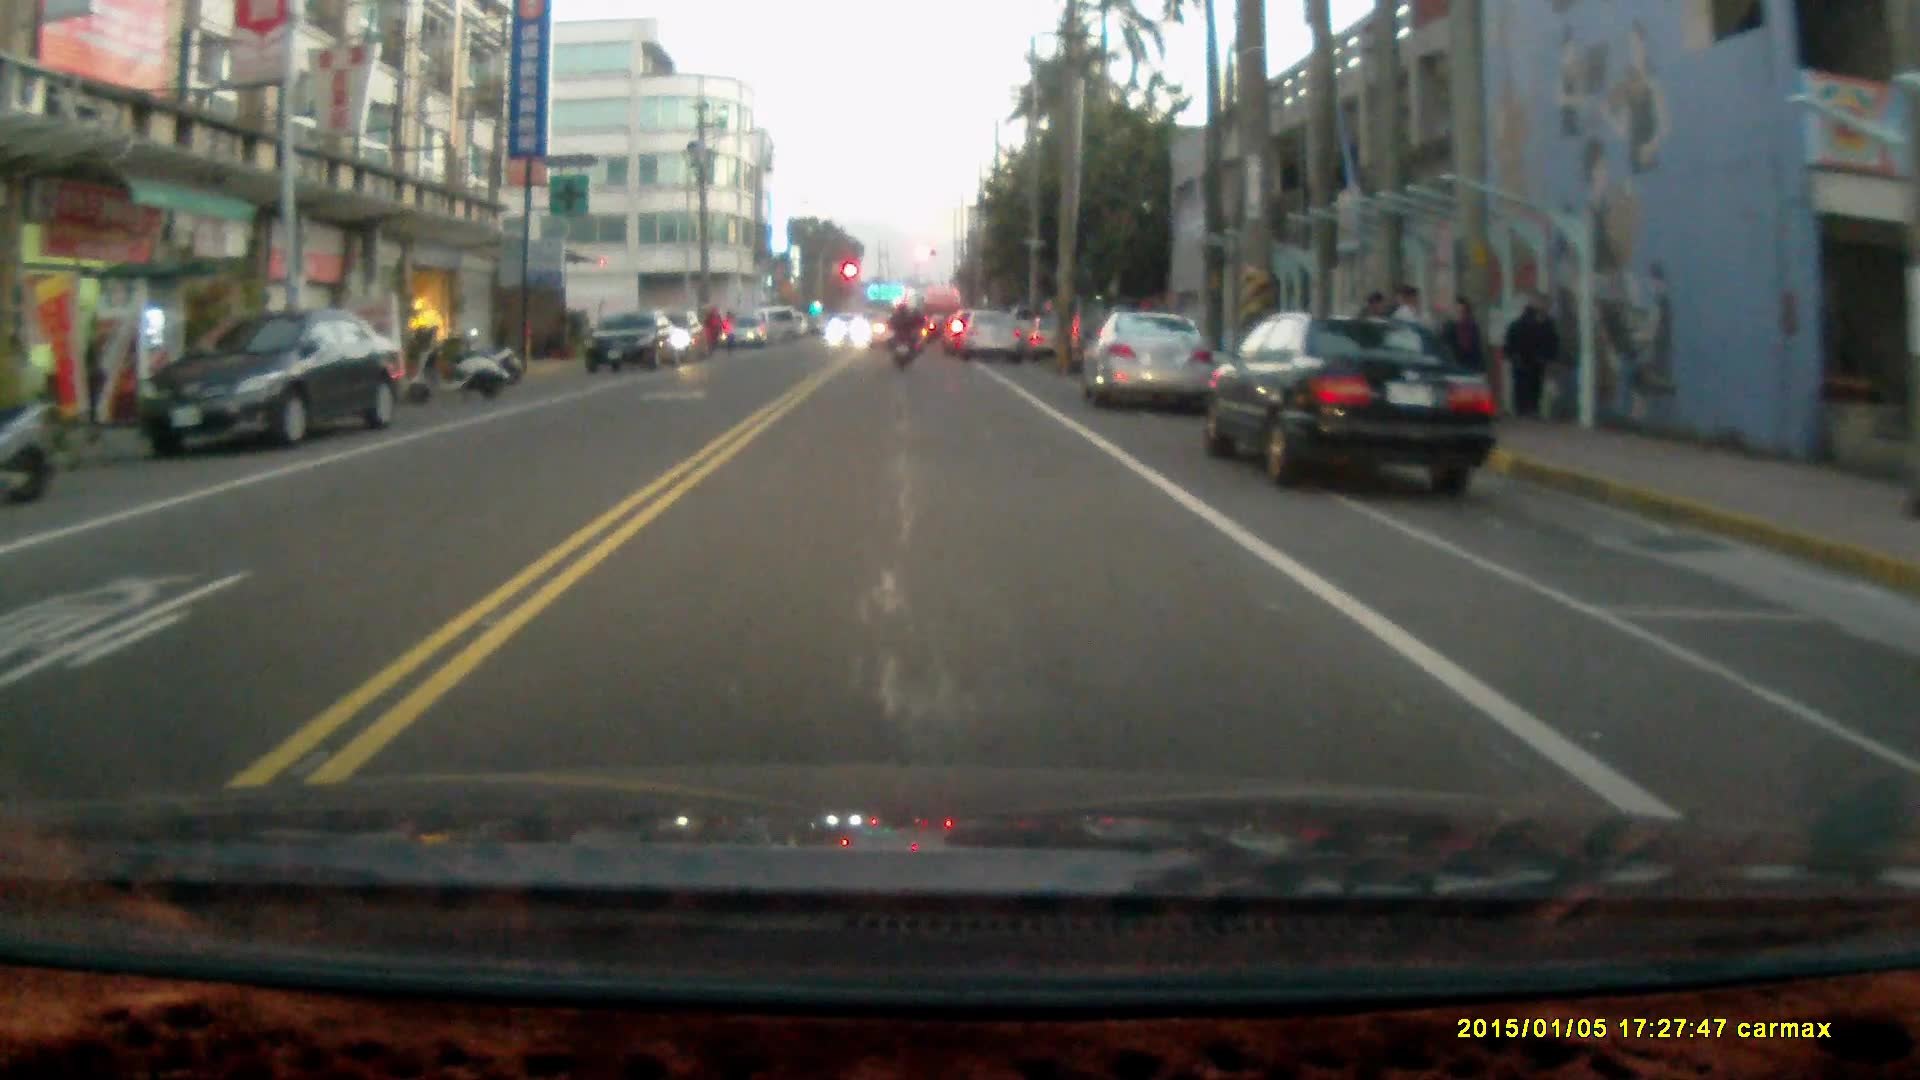pedestrian: (1503, 282, 1560, 417), (1436, 290, 1487, 402), (1392, 280, 1436, 395)
rider: (885, 299, 916, 371)
vehicle: (1196, 297, 1507, 483), (130, 298, 412, 442), (1084, 299, 1219, 404), (588, 309, 691, 369), (967, 301, 1028, 353)
